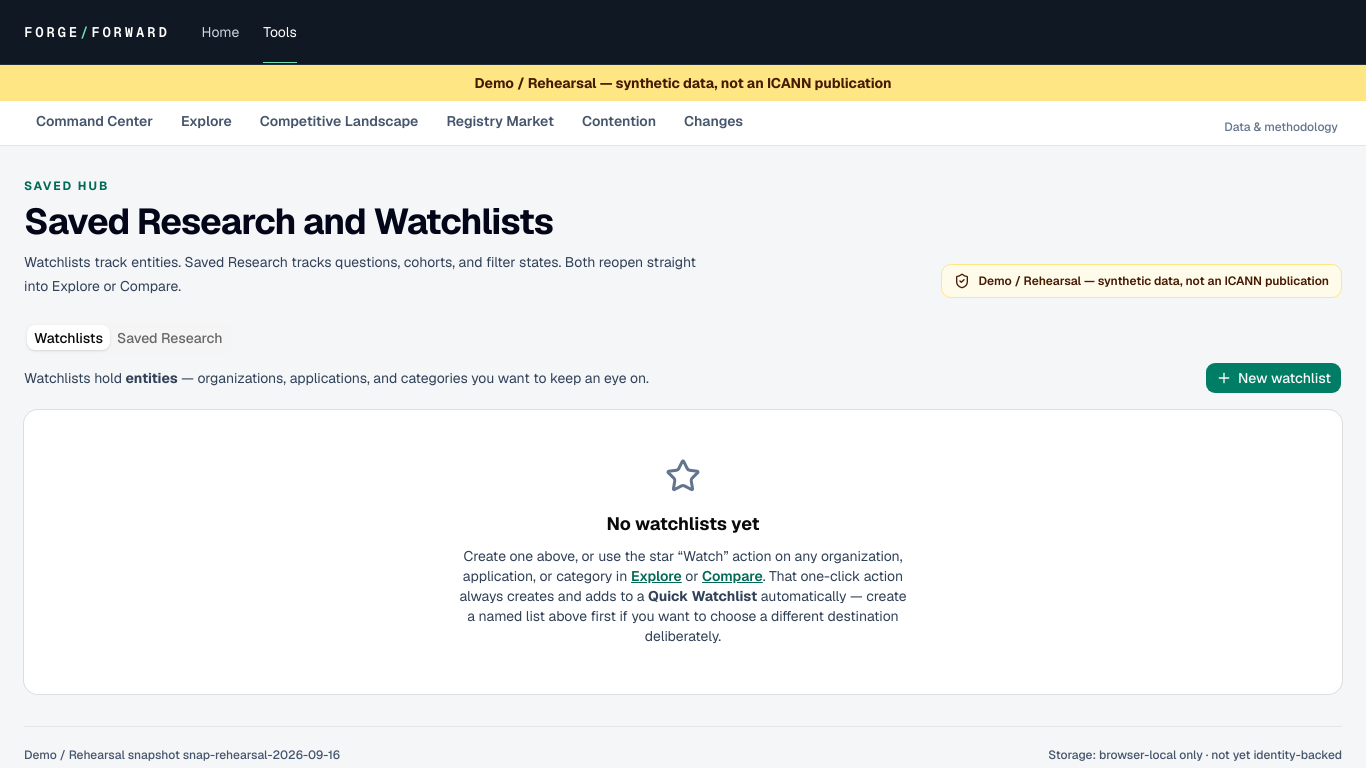
Saved hub — empty states › shows guidance to save research when there is none yet
This screenshot has width=1366, height=768.
Click the tab "Saved Research" at (170, 338), box [110,325,230,350]
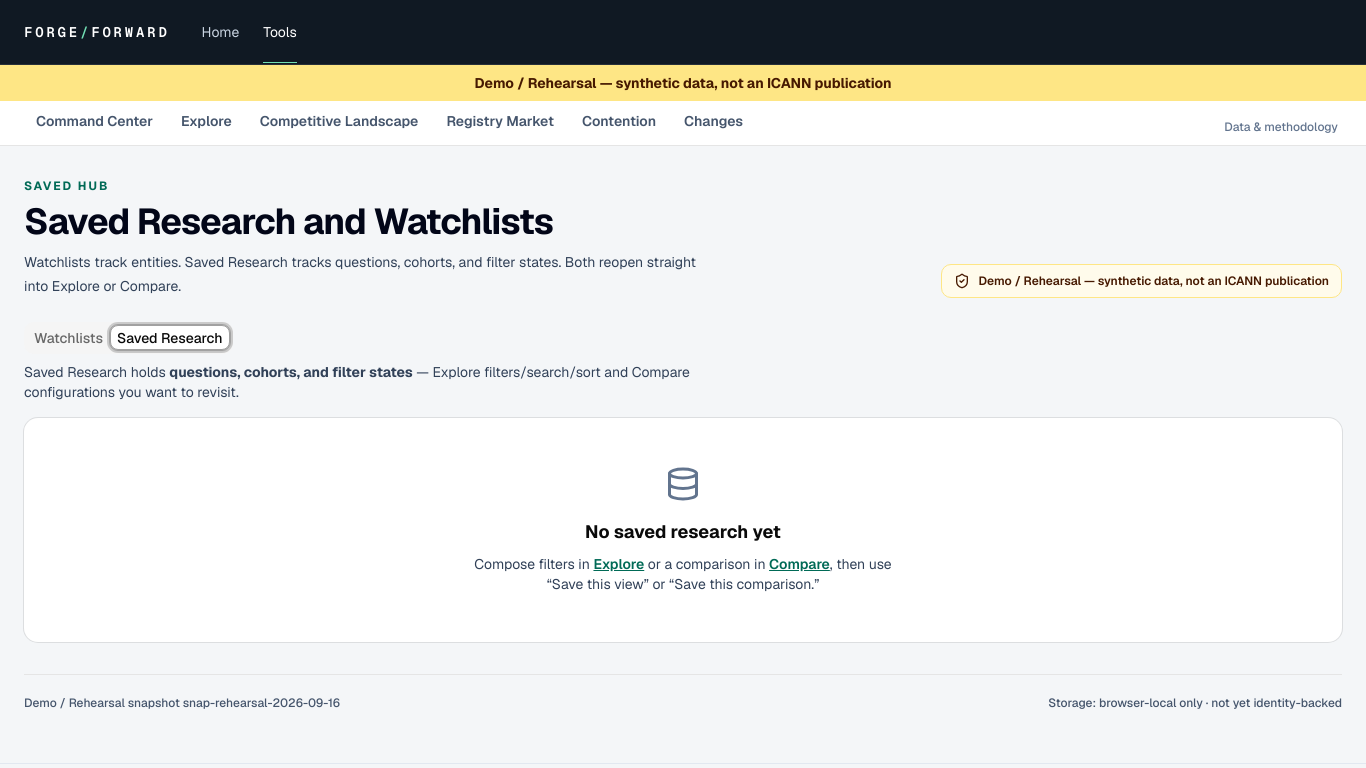
Result: the heading "No saved research yet" is shown at [585,520,781,542]
